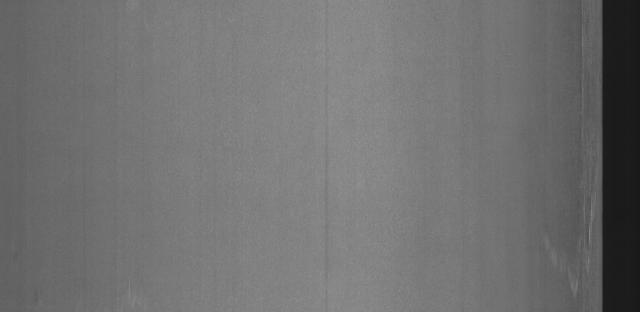silk_spot: (542, 175, 599, 298)
